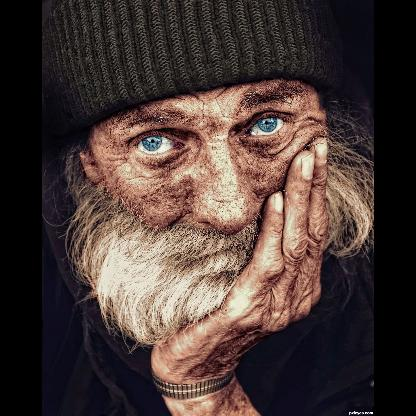Male: (77, 75, 331, 340)
